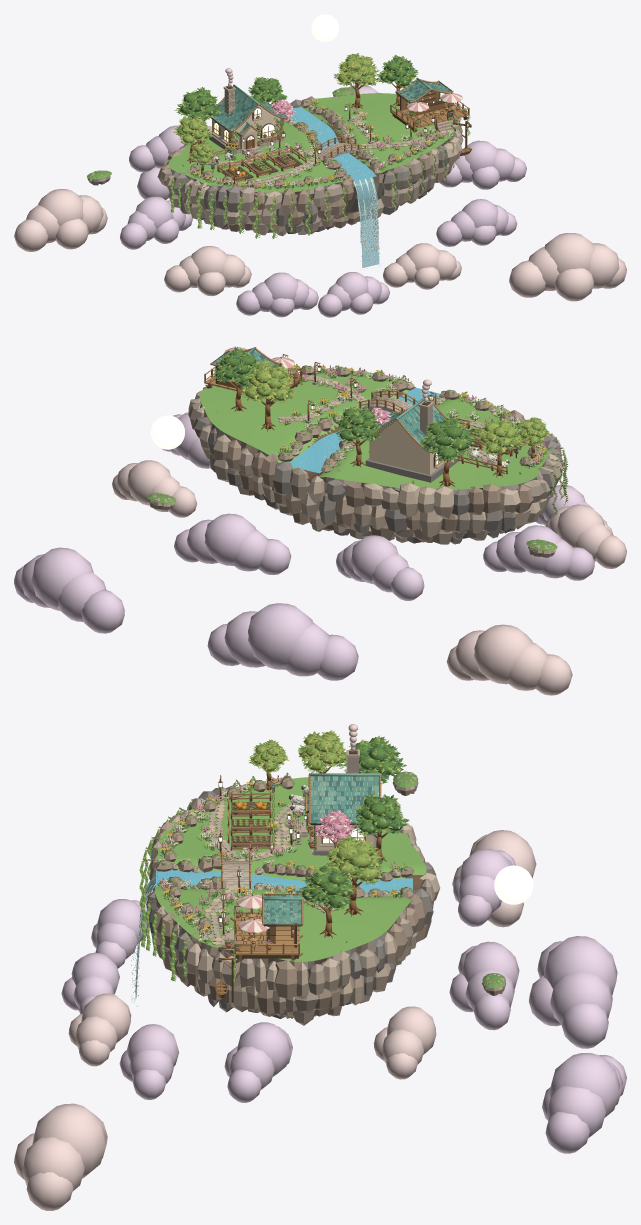
File: island_dusk.glb
3 views of the same model, one above another, from view 1: azimuth 30°, elevation 25°; view 2: azimuth 150°, elevation 25°; view 3: azimuth 270°, elevation 25° (orthographic). The views are drawn at different scales.
Parts seen in each view (by area): view 1: island_dusk_scene; view 2: island_dusk_scene; view 3: island_dusk_scene.
Part boxes in pixels (x1=…): island_dusk_scene: x1=14, y1=14, x2=626, y2=317; island_dusk_scene: x1=14, y1=346, x2=626, y2=695; island_dusk_scene: x1=14, y1=724, x2=626, y2=1210.
Size of the model in its own units: 75.51 by 33.11 by 62.29.
